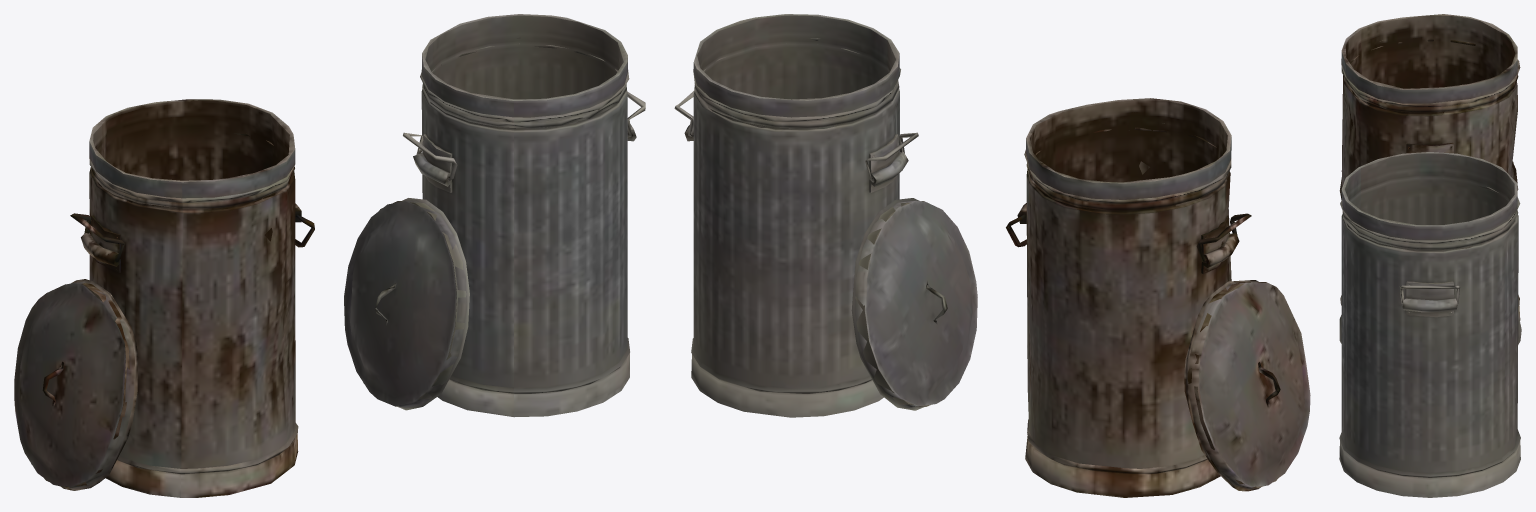
File: metal_trash_can.glb
3 renders of one model, left to right at view 1: azimuth 30°, elevation 25°; view 2: azimuth 150°, elevation 25°; view 3: azimuth 270°, elevation 25°, orthographic. The views are drawn at different scales.
Visible parts, largest first — view 1: metal_trash_can_handle_left, metal_trash_can_rust; view 2: metal_trash_can_handle_left, metal_trash_can_rust; view 3: metal_trash_can_handle_left, metal_trash_can_rust.
Boxes of the visible parts, x1,y1,x2,y2 form: metal_trash_can_handle_left: (344,14,645,417); metal_trash_can_rust: (14,99,314,497); metal_trash_can_handle_left: (674,14,977,417); metal_trash_can_rust: (1006,98,1310,497); metal_trash_can_handle_left: (1339,152,1521,497); metal_trash_can_rust: (1339,14,1520,320).
Size of the model in its own units: 1.77 by 0.9062 by 0.5544.
Materials: 2 (2 with a texture image).
